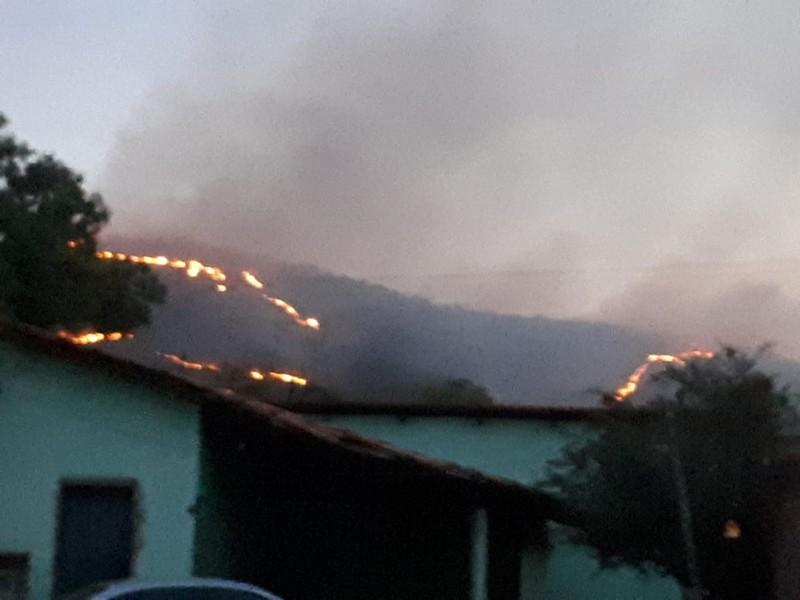Fire: (96, 236, 329, 337), (159, 345, 312, 397), (609, 344, 722, 411), (51, 315, 153, 358)
